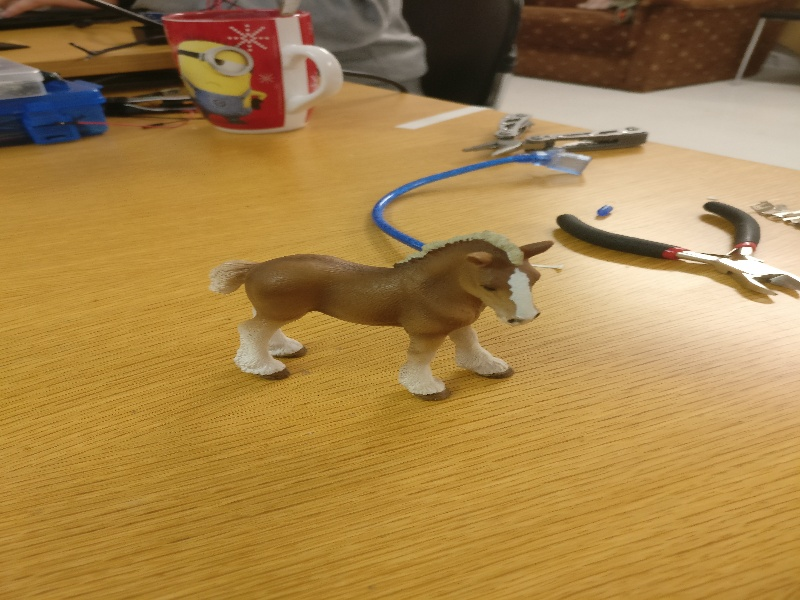toy: (202, 231, 557, 401)
